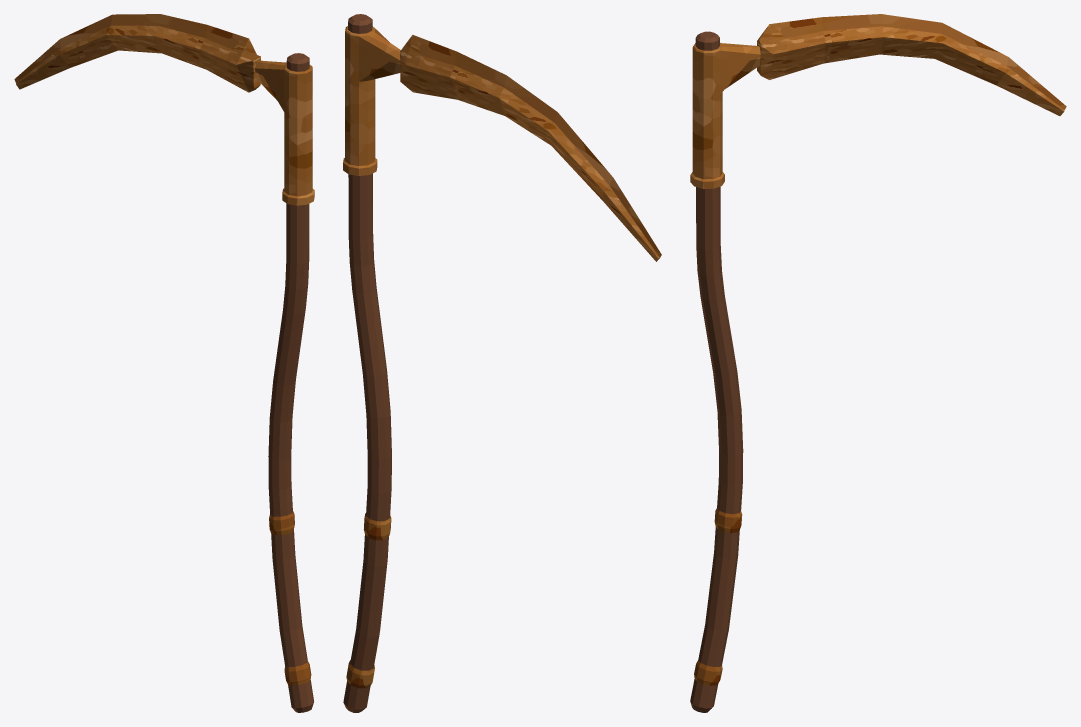
The model's file is scythe_rusty.glb.
3 renders of one model, left to right at view 1: azimuth 30°, elevation 25°; view 2: azimuth 210°, elevation 25°; view 3: azimuth 270°, elevation 25°, orthographic. The views are drawn at different scales.
Visible parts, largest first — view 1: ScytheV12; view 2: ScytheV12; view 3: ScytheV12.
Part boxes in pixels (x1,y1,x2,y2): ScytheV12: [14, 14, 314, 712]; ScytheV12: [343, 14, 661, 712]; ScytheV12: [690, 14, 1066, 712].
Bounding box in the file's own units: 0.2202 × 1.11 × 0.5596.
3 materials, 3 textured.
